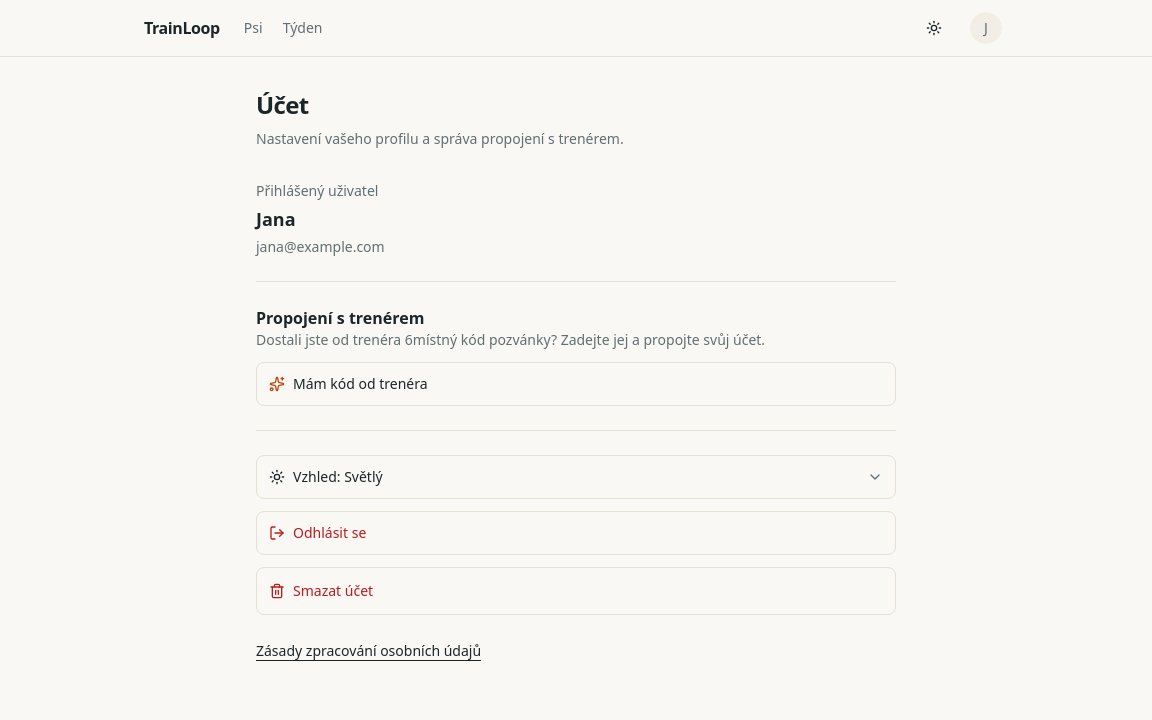
it: account deletion › keeps the dialog open and disables duplicate submissions while deleting
Click the button "Smazat účet" at (333, 590), box [256,567,896,615]
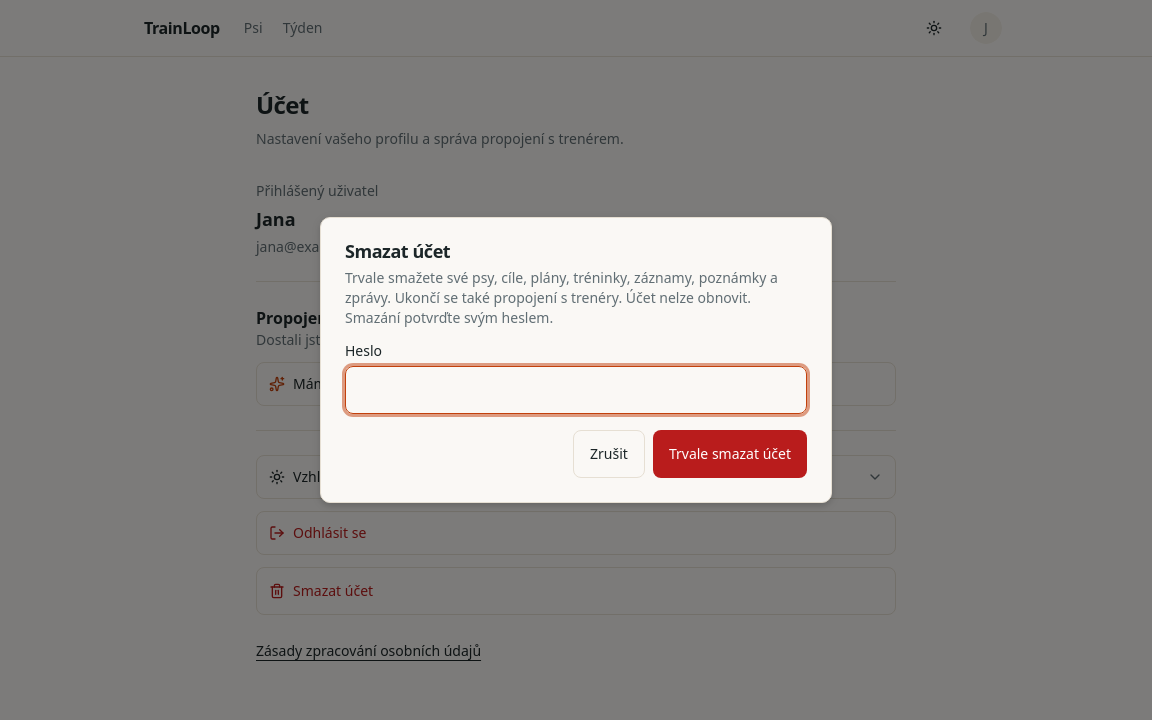
Type "password" into the password field labelled "Heslo" at (576, 390), box [345,366,807,414]
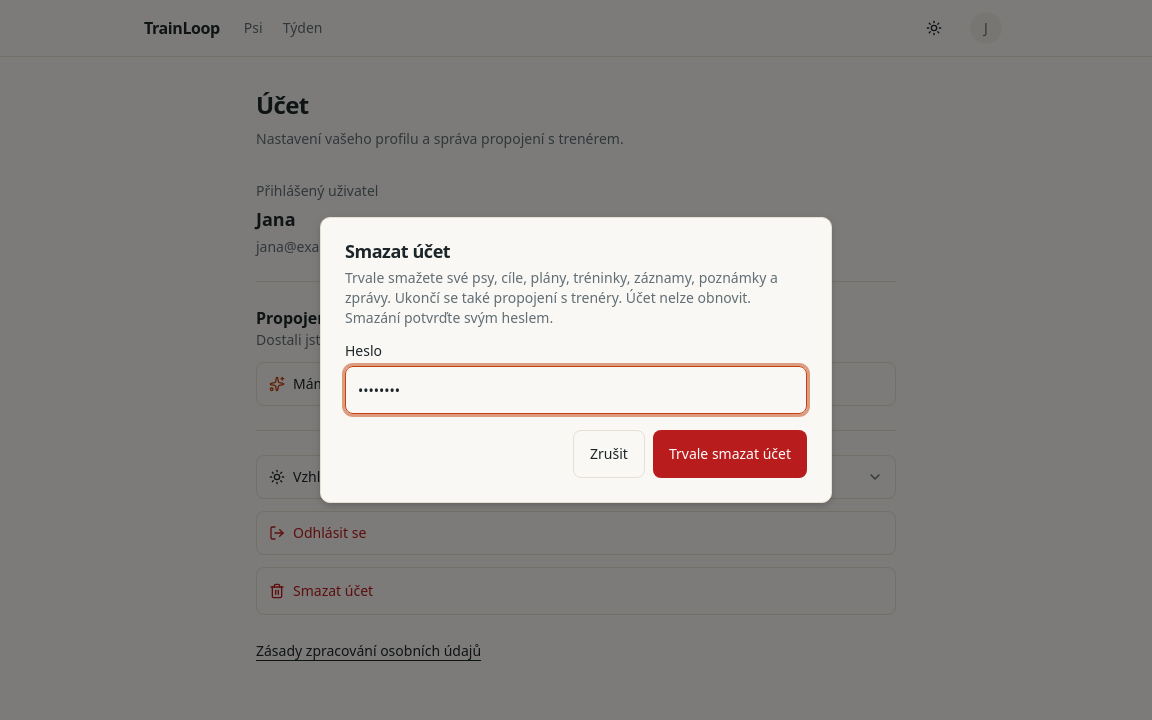
Click the button "Trvale smazat účet" at (730, 454), box [653,430,807,478]
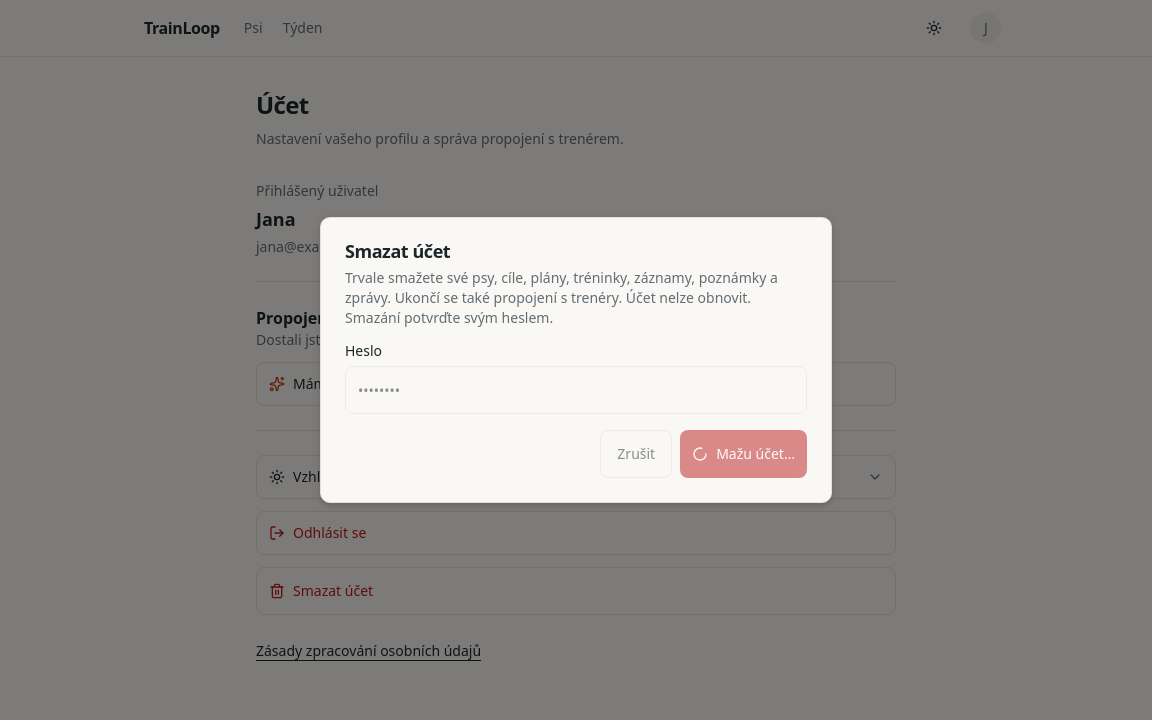
Now the button "Mažu účet…" is disabled, box [680,430,807,478]
Now the button "Zrušit" is disabled, box [600,430,672,478]
Now the password field labelled "Heslo" is disabled, box [345,366,807,414]
Press Escape
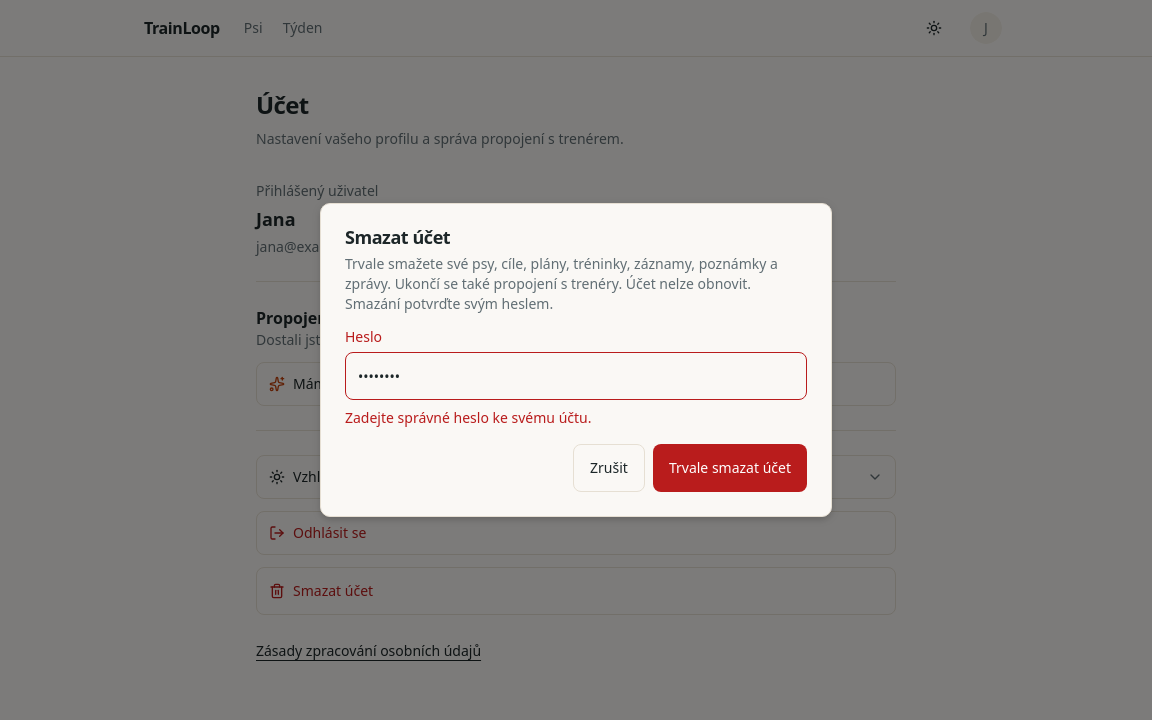
Now the dialog is shown, box [320,203,832,517]
Now the text "Zadejte správné heslo ke svému účtu." is shown, box [345,408,592,427]
